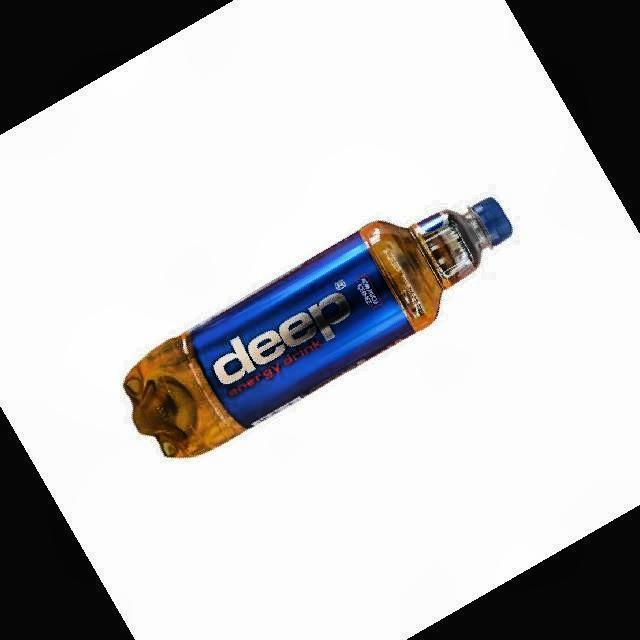plastic: (124, 198, 511, 457)
